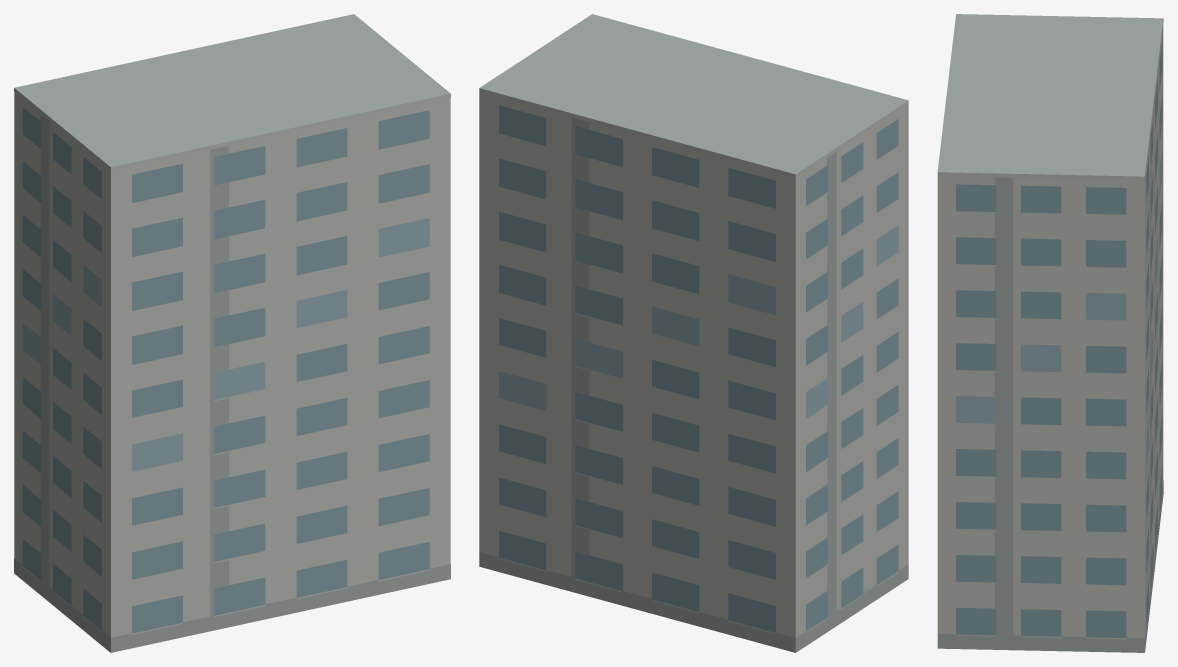
The model's file is residential-afc42a48-d9f4-4639-a023-dbfe55b21b7e.glb.
3 renders of one model, left to right at view 1: azimuth 30°, elevation 25°; view 2: azimuth 150°, elevation 25°; view 3: azimuth 270°, elevation 25°, orthographic.
Parts seen in each view (by area): view 1: residential-afc42a48-d9f4-4639-a023-dbfe55b21b7e.tmp; view 2: residential-afc42a48-d9f4-4639-a023-dbfe55b21b7e.tmp; view 3: residential-afc42a48-d9f4-4639-a023-dbfe55b21b7e.tmp.
Part boxes in pixels (x1,y1,x2,y2): residential-afc42a48-d9f4-4639-a023-dbfe55b21b7e.tmp: [14, 14, 450, 652]; residential-afc42a48-d9f4-4639-a023-dbfe55b21b7e.tmp: [479, 14, 908, 652]; residential-afc42a48-d9f4-4639-a023-dbfe55b21b7e.tmp: [937, 14, 1163, 652].
Size of the model in its own units: 21.96 by 30 by 12.9.
